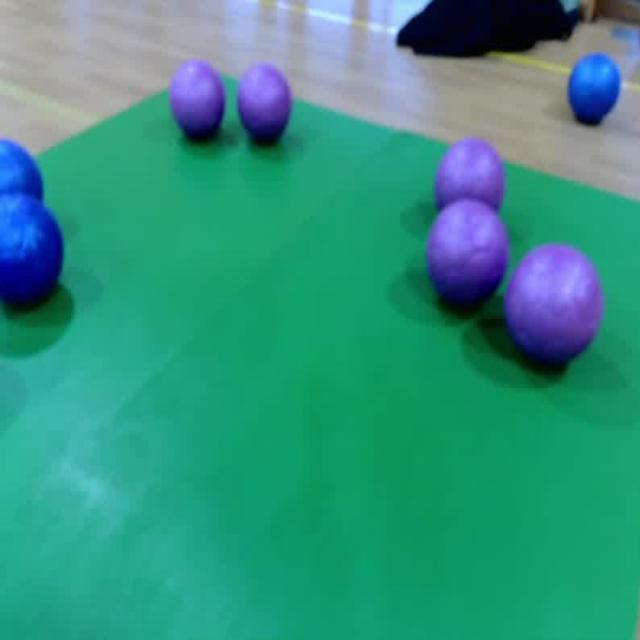blue_ball: (0, 193, 66, 305), (568, 52, 620, 124), (0, 135, 44, 204)
purple_ball: (507, 245, 603, 371), (426, 200, 512, 307), (434, 140, 506, 213), (236, 63, 292, 144), (171, 62, 225, 135)
